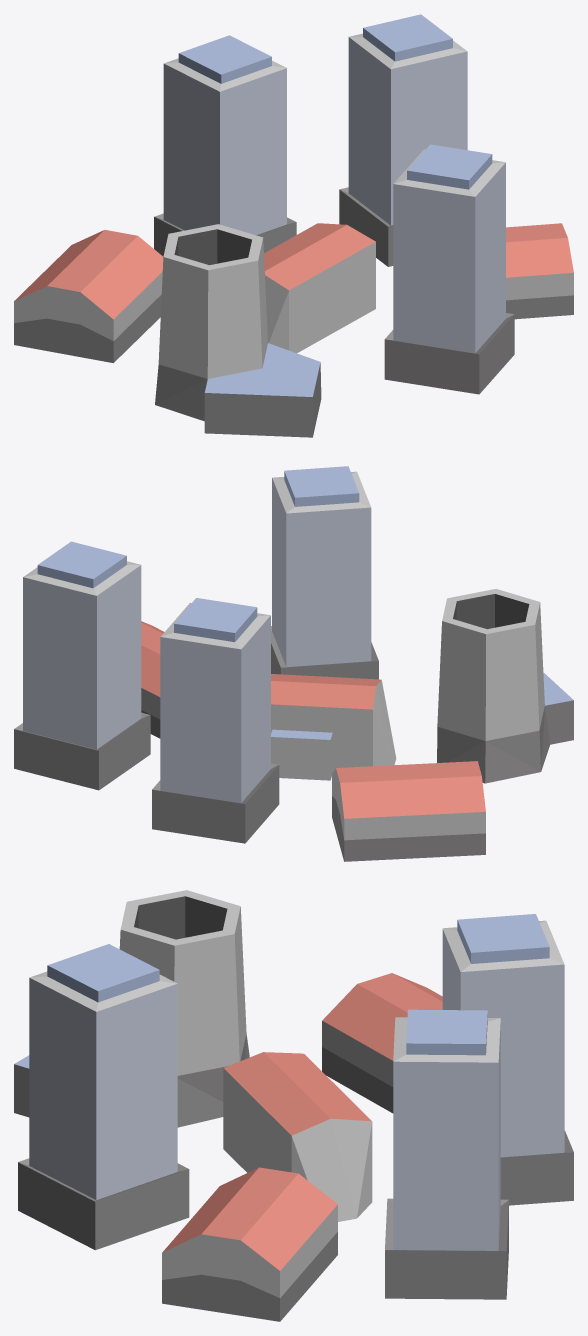
Rendered from beta01_12.dae.
3 views of the same model, one above another, from view 1: azimuth 30°, elevation 25°; view 2: azimuth 150°, elevation 25°; view 3: azimuth 270°, elevation 25° (orthographic). The views are drawn at different scales.
Visible parts, largest first — view 1: Cube; view 2: Cube; view 3: Cube.
Part boxes in pixels (bbox=[...]): Cube: bbox=[14, 14, 573, 437]; Cube: bbox=[14, 466, 573, 861]; Cube: bbox=[14, 890, 573, 1321].
Size of the model in its own units: 1.92 by 1.61 by 0.7955.
